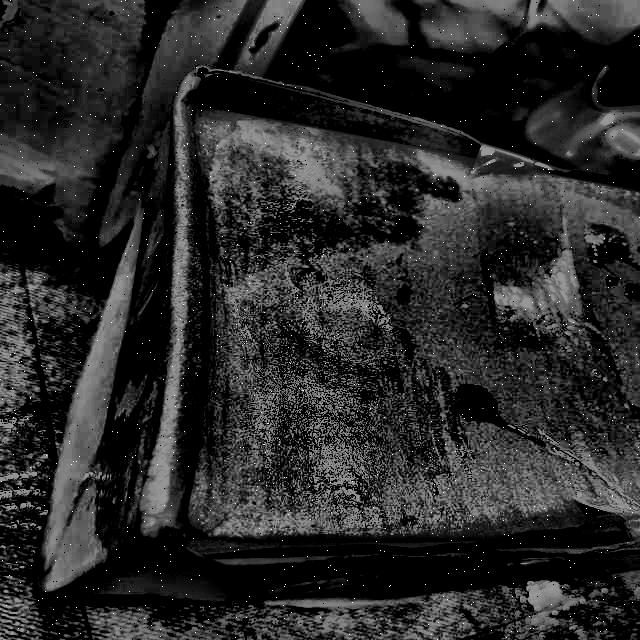box: (30, 58, 640, 618)
wet: (110, 109, 550, 585)
